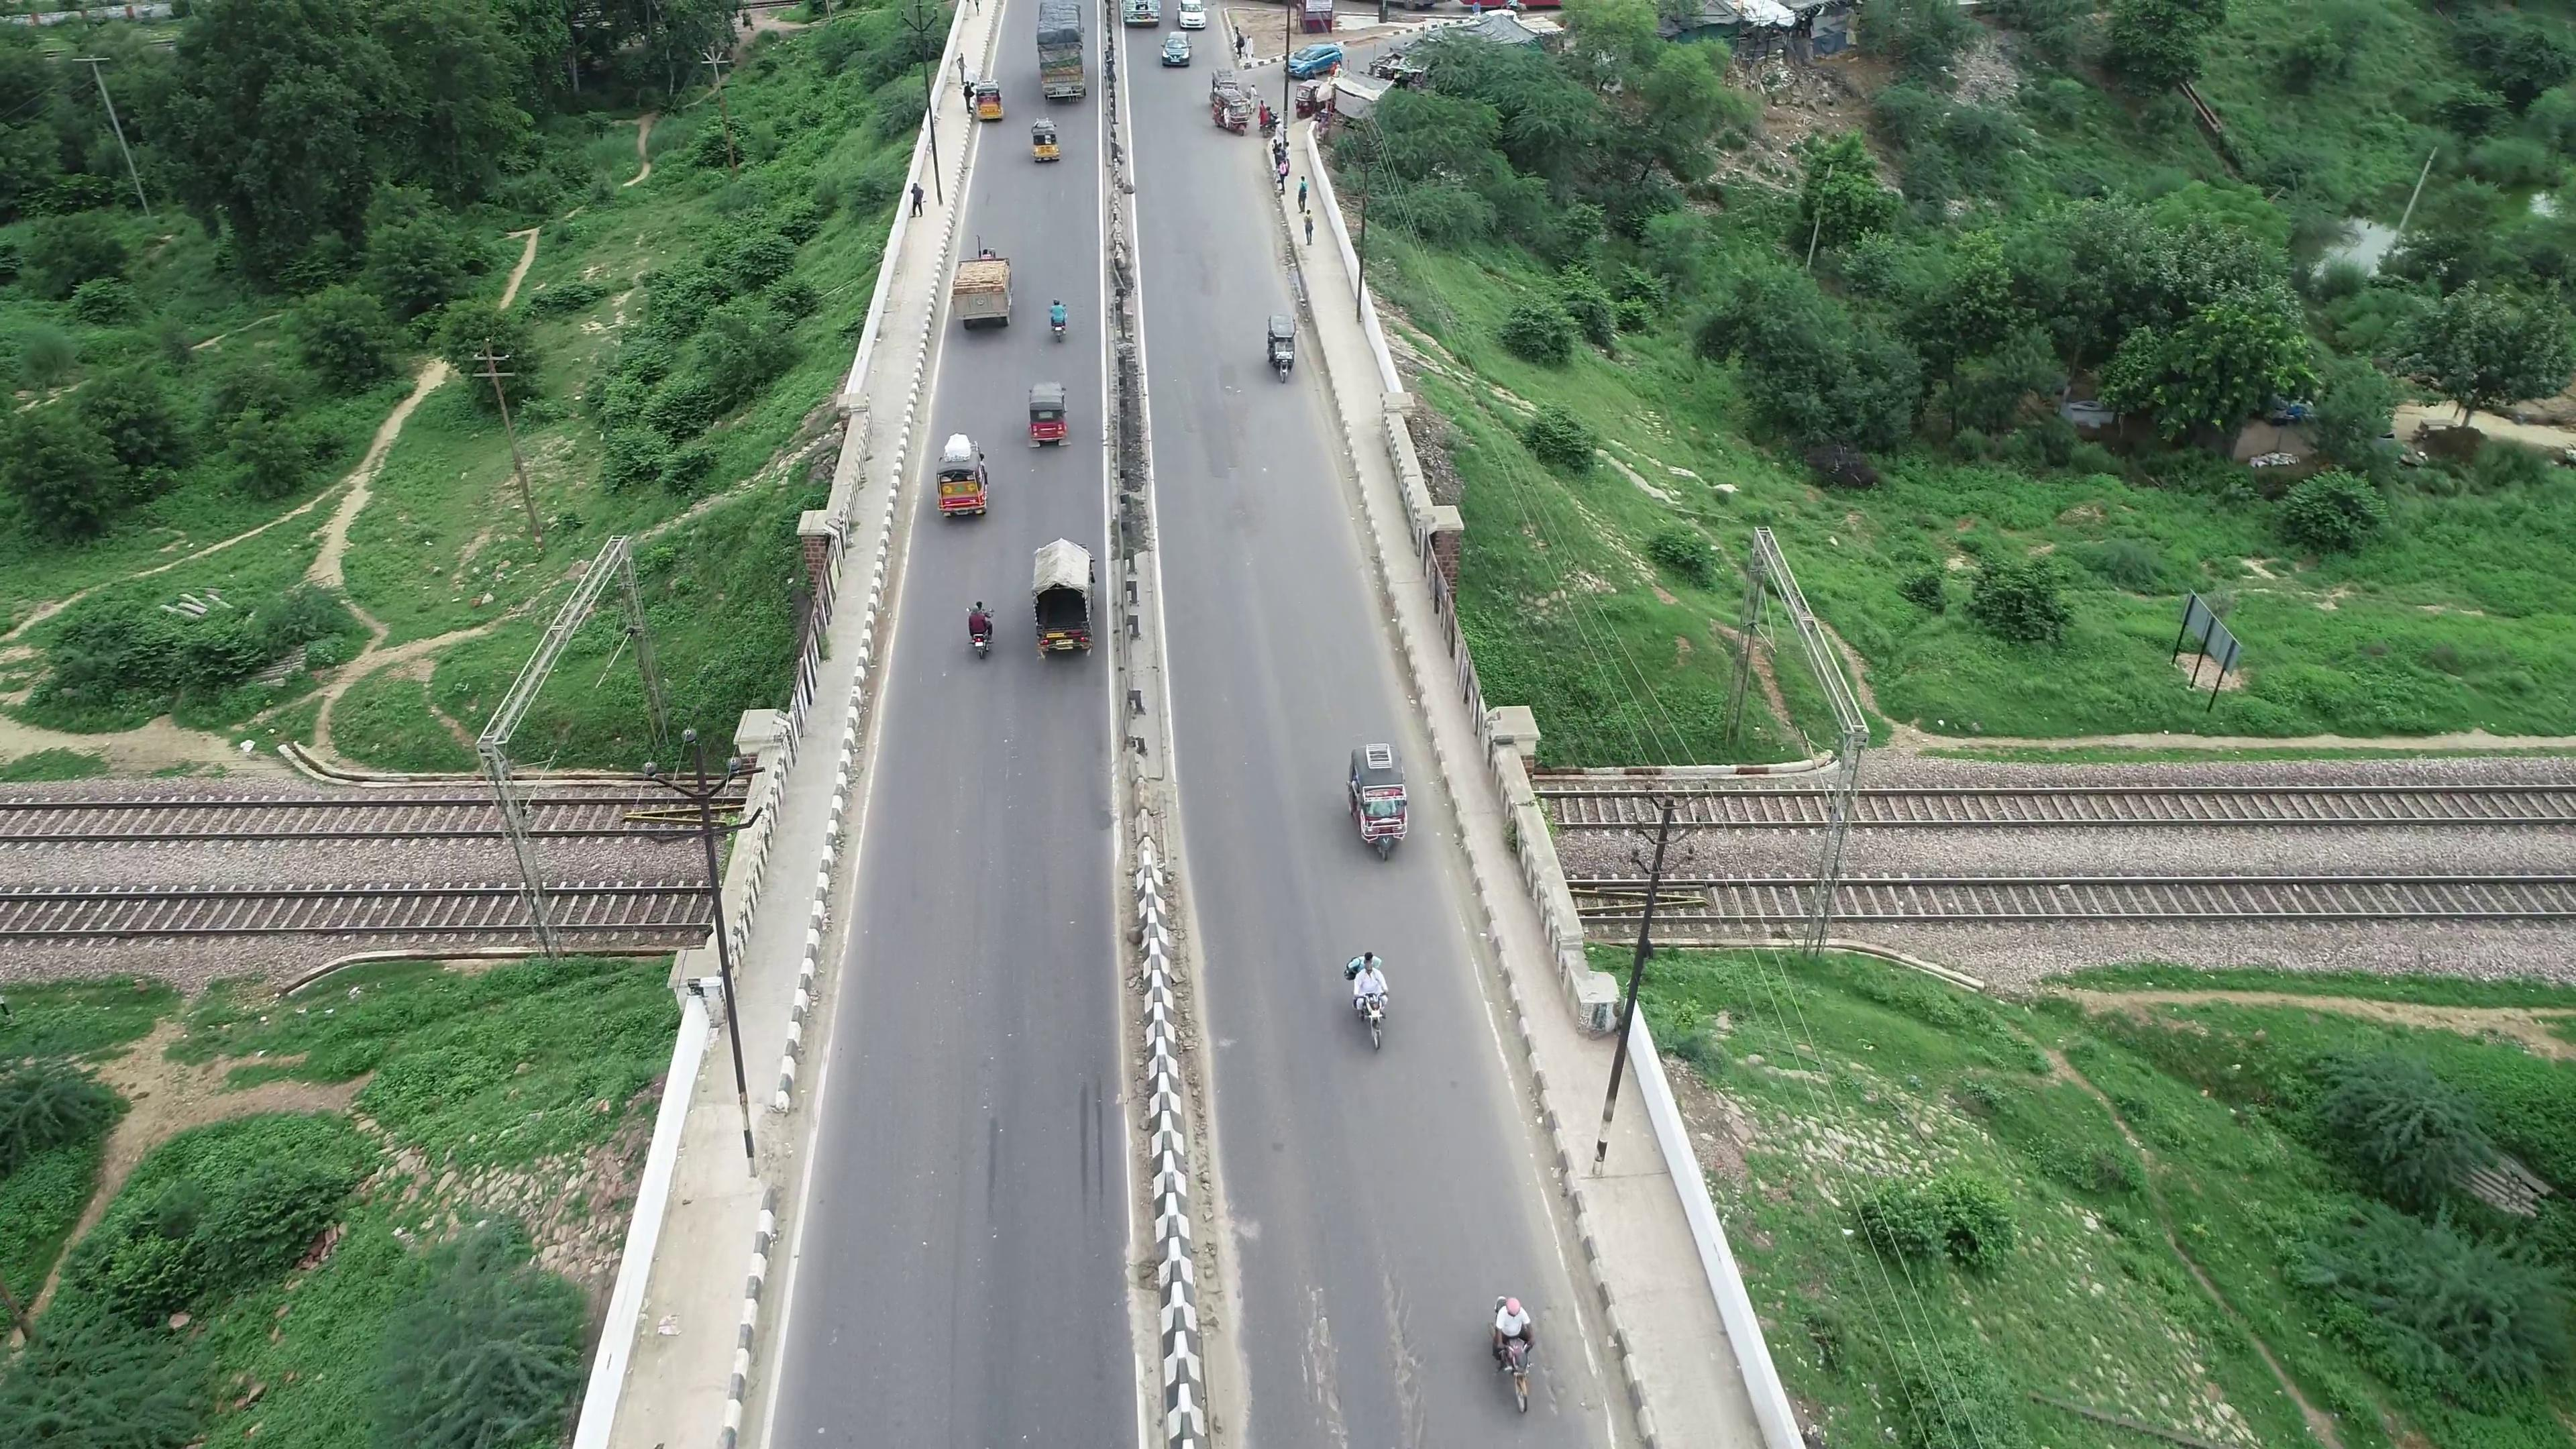Ravelling: (1288, 1281, 1357, 1447), (1373, 1276, 1437, 1445)
